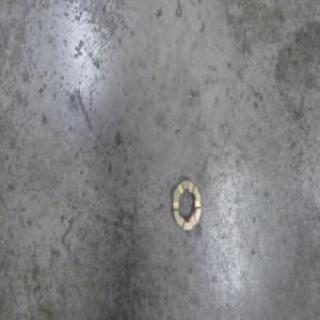Nuttrack_idkeyframe: (170, 174, 200, 233)
